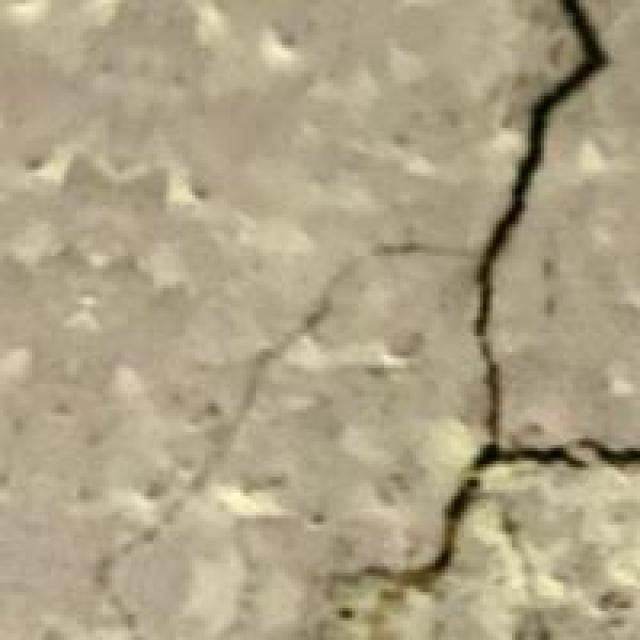Crack: (326, 0, 637, 637)
